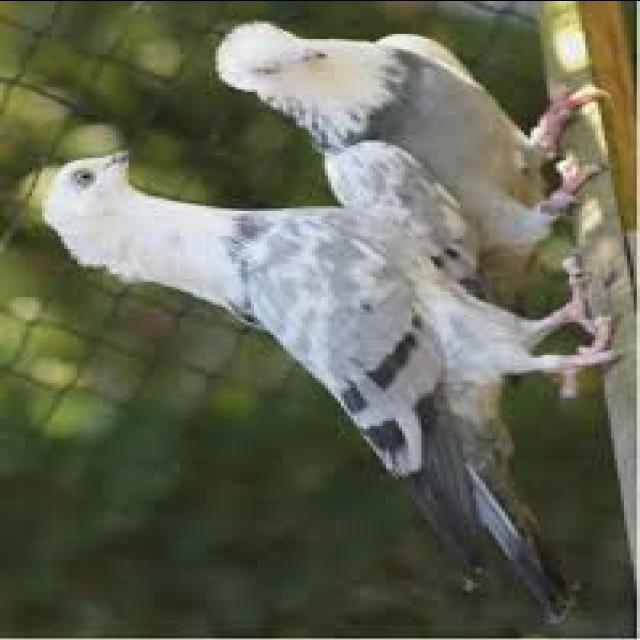pigeon: (0, 162, 616, 602)
